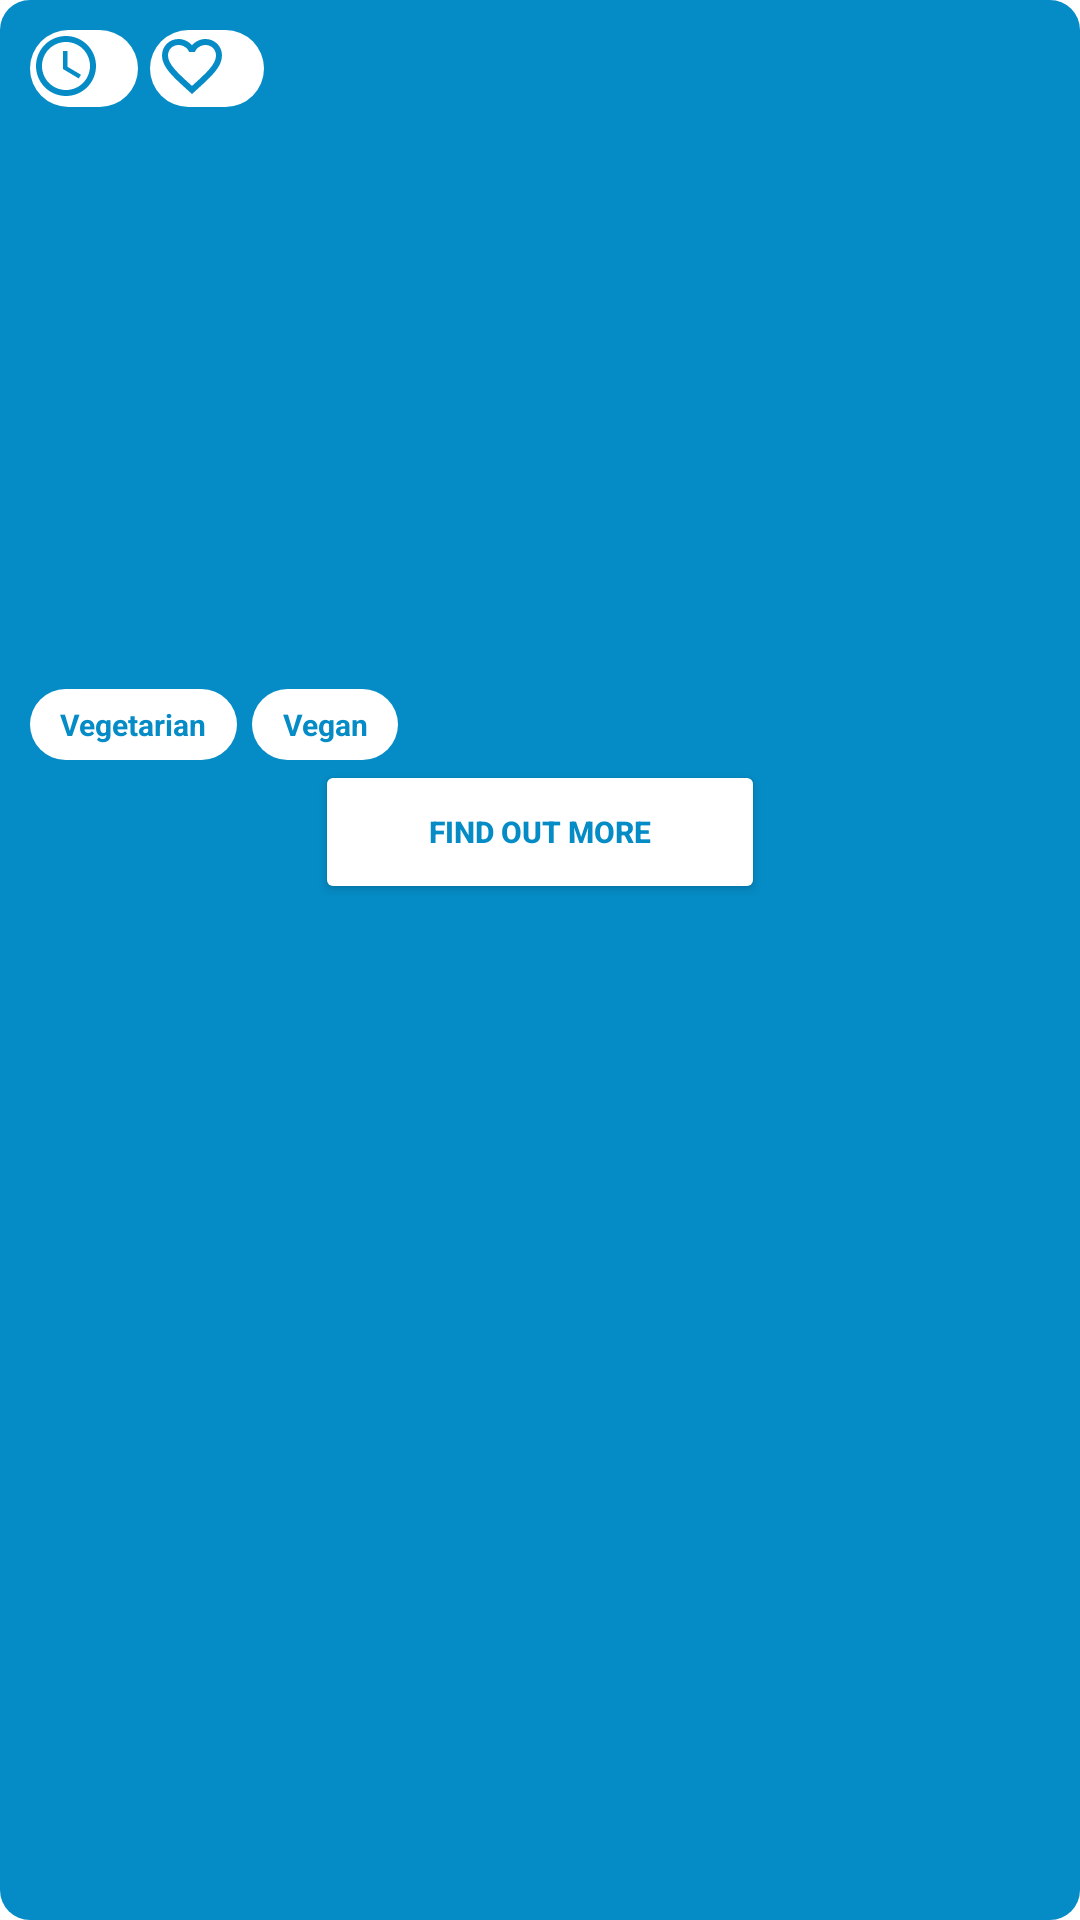

Icons on this 1080px x 1920px Android screen, each with the point to tap as (x=x, y=y):
clock: (x=66, y=66)
heart: (x=192, y=66)
